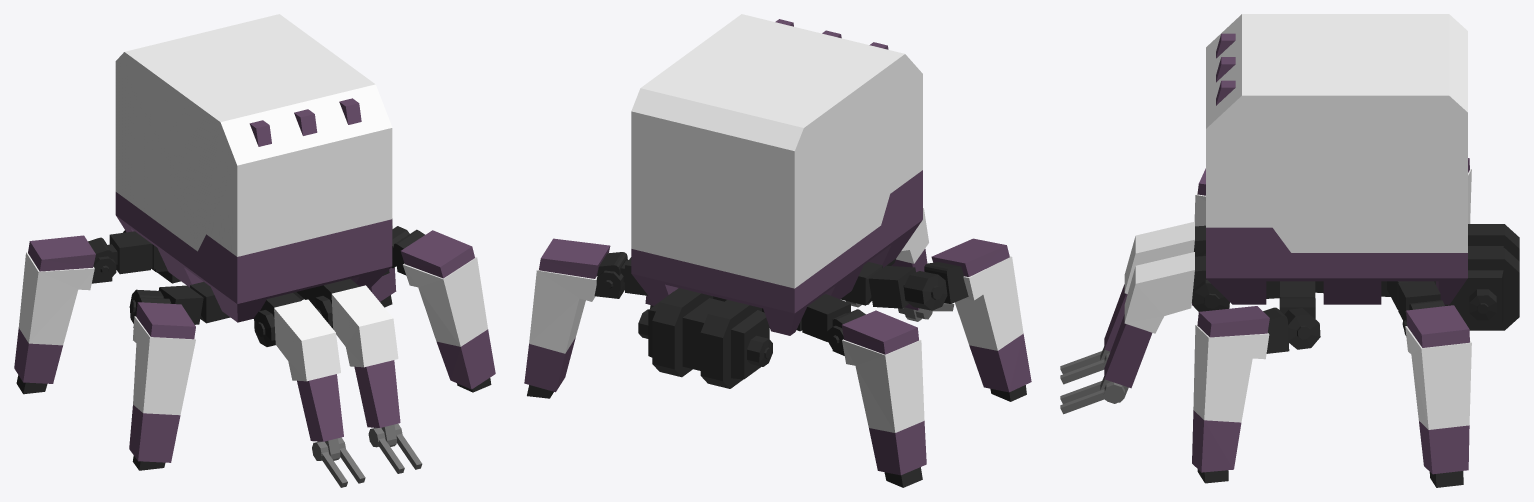
File: machine-harvester--mobile.glb
3 views of the same model, side by side, from view 1: azimuth 30°, elevation 25°; view 2: azimuth 150°, elevation 25°; view 3: azimuth 270°, elevation 25° (orthographic). The views are drawn at different scales.
Parts seen in each view (by area): view 1: Robot_white_part, Robot_purple_part, Robot_black_part, Robot_gray_part; view 2: Robot_white_part, Robot_purple_part, Robot_black_part; view 3: Robot_white_part, Robot_purple_part, Robot_black_part, Robot_gray_part.
Part boxes in pixels (left/top/right/bottom): Robot_white_part: left=18, top=14, right=487, bottom=415; Robot_purple_part: left=14, top=98, right=495, bottom=462; Robot_black_part: left=16, top=226, right=491, bottom=470; Robot_gray_part: left=312, top=423, right=422, bottom=487; Robot_white_part: left=529, top=14, right=1023, bottom=432; Robot_purple_part: left=524, top=19, right=1031, bottom=475; Robot_black_part: left=527, top=252, right=1026, bottom=487; Robot_white_part: left=1124, top=14, right=1471, bottom=429; Robot_purple_part: left=1104, top=33, right=1469, bottom=474; Robot_black_part: left=1192, top=224, right=1519, bottom=487; Robot_gray_part: left=1060, top=346, right=1128, bottom=414.
Bounding box in the file's own units: 0.4886 × 0.3934 × 0.4838.
